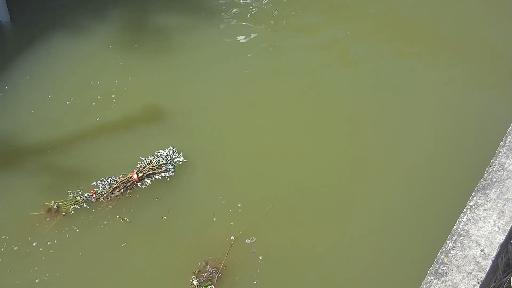twig: (41, 143, 187, 223), (189, 256, 227, 288)
